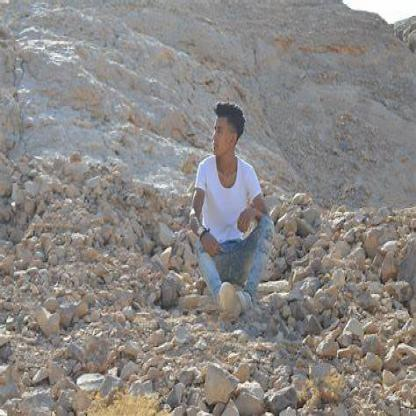person: (183, 78, 288, 342)
